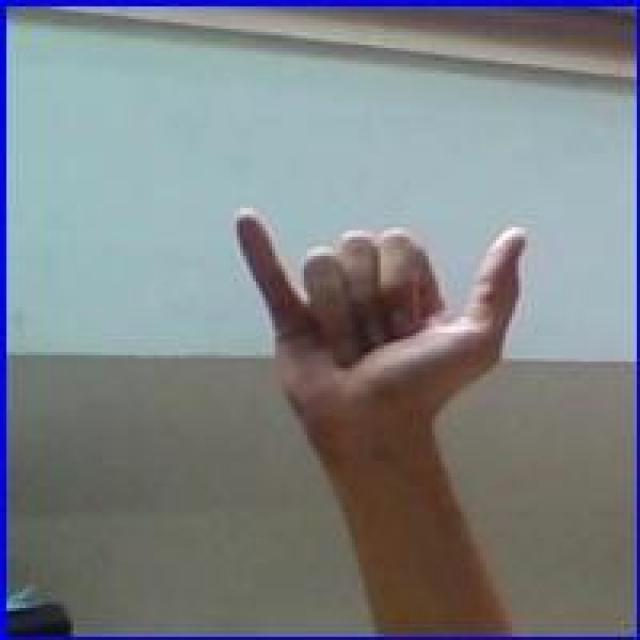Y: (224, 200, 528, 440)
